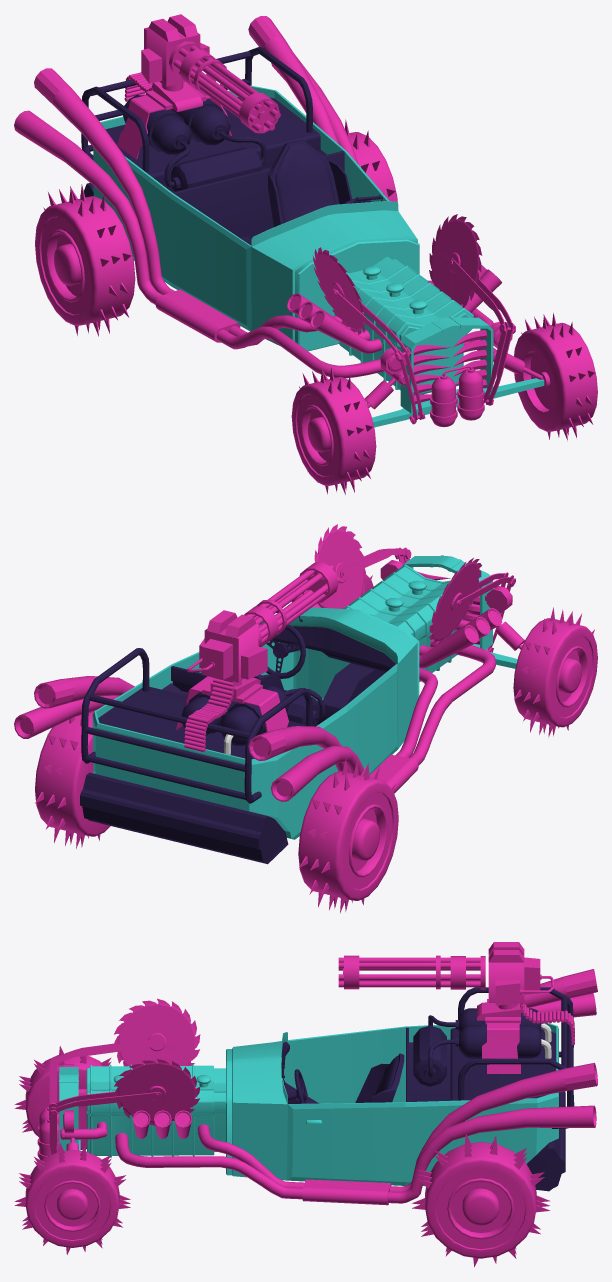
The model's file is Mad race_Car_Last.fbx.
3 views of the same model, one above another, from view 1: azimuth 30°, elevation 25°; view 2: azimuth 150°, elevation 25°; view 3: azimuth 270°, elevation 25° (orthographic). The views are drawn at different scales.
Visible parts, largest first — view 1: Car_body, Vent_Pipe (×3), Wheel_03, Decoration (×7), Weapon_Gun (×4), Weapon_Saw (×6), Car_Interior (×2), Wheel_01, Wheel_02, Car_Engine, Seat, Car_Frame (+3 smaller); view 2: Car_body, Vent_Pipe (×3), Weapon_Gun (×5), Wheel_03, Battery box, Wheel_01, Weapon_Saw (×4), Frame (×5), Wheel_04, Car_Interior (×2), Car_Engine, Decoration (×3) (+5 smaller); view 3: Car_body, Vent_Pipe (×2), Wheel_04, Weapon_Gun (×5), Weapon_Saw (×4), Wheel_02, Car_Engine, Decoration (×4), Car_Interior, Wheel_01, Frame (×2), Battery box (+3 smaller).
Boxes of the visible parts, bbox=[...] form: Car_body: bbox=[93, 85, 419, 351]; Vent_Pipe (×3): bbox=[14, 16, 493, 378]; Wheel_03: bbox=[35, 184, 135, 336]; Decoration (×7): bbox=[122, 95, 486, 427]; Weapon_Gun (×4): bbox=[117, 14, 280, 159]; Weapon_Saw (×6): bbox=[312, 214, 515, 424]; Car_Interior (×2): bbox=[105, 97, 344, 238]; Wheel_01: bbox=[291, 367, 376, 494]; Wheel_02: bbox=[514, 313, 597, 441]; Car_Engine: bbox=[334, 256, 473, 395]; Seat: bbox=[268, 139, 351, 227]; Car_Frame: bbox=[400, 317, 493, 413]; Car_body: bbox=[92, 607, 419, 839]; Vent_Pipe (×3): bbox=[14, 625, 496, 801]; Weapon_Gun (×5): bbox=[176, 562, 339, 752]; Wheel_03: bbox=[298, 758, 398, 913]; Battery box: bbox=[80, 772, 288, 864]; Wheel_01: bbox=[513, 607, 597, 736]; Weapon_Saw (×4): bbox=[314, 524, 515, 644]; Frame (×5): bbox=[81, 648, 312, 803]; Wheel_04: bbox=[35, 710, 110, 848]; Car_Interior (×2): bbox=[98, 666, 342, 759]; Car_Engine: bbox=[343, 564, 472, 681]; Decoration (×3): bbox=[181, 684, 319, 745]; Car_body: bbox=[226, 1022, 558, 1185]; Vent_Pipe (×2): bbox=[115, 969, 597, 1205]; Wheel_04: bbox=[412, 1133, 550, 1266]; Weapon_Gun (×5): bbox=[338, 942, 574, 1073]; Weapon_Saw (×4): bbox=[49, 998, 200, 1125]; Wheel_02: bbox=[14, 1143, 130, 1254]; Car_Engine: bbox=[86, 1064, 225, 1157]; Decoration (×4): bbox=[37, 1008, 541, 1160]; Car_Interior: bbox=[409, 1028, 556, 1101]; Wheel_01: bbox=[14, 1046, 111, 1149]; Frame (×2): bbox=[458, 987, 574, 1128]; Battery box: bbox=[527, 1091, 565, 1191].
Bounding box in the file's own units: 235 × 198 × 429.
